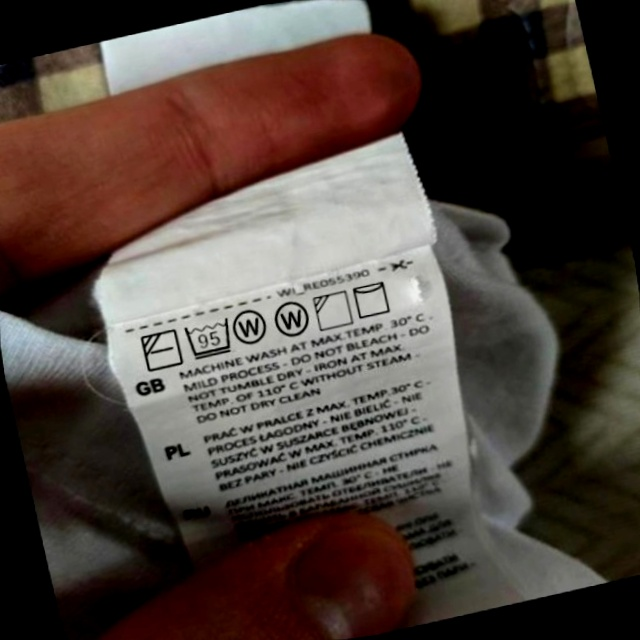95C: (181, 314, 238, 362)
dry_flat_in_shade: (137, 325, 185, 375)
line_dry: (348, 276, 396, 322)
shade_dry: (310, 287, 357, 334)
wet_clean: (270, 296, 315, 343), (229, 301, 273, 349)
